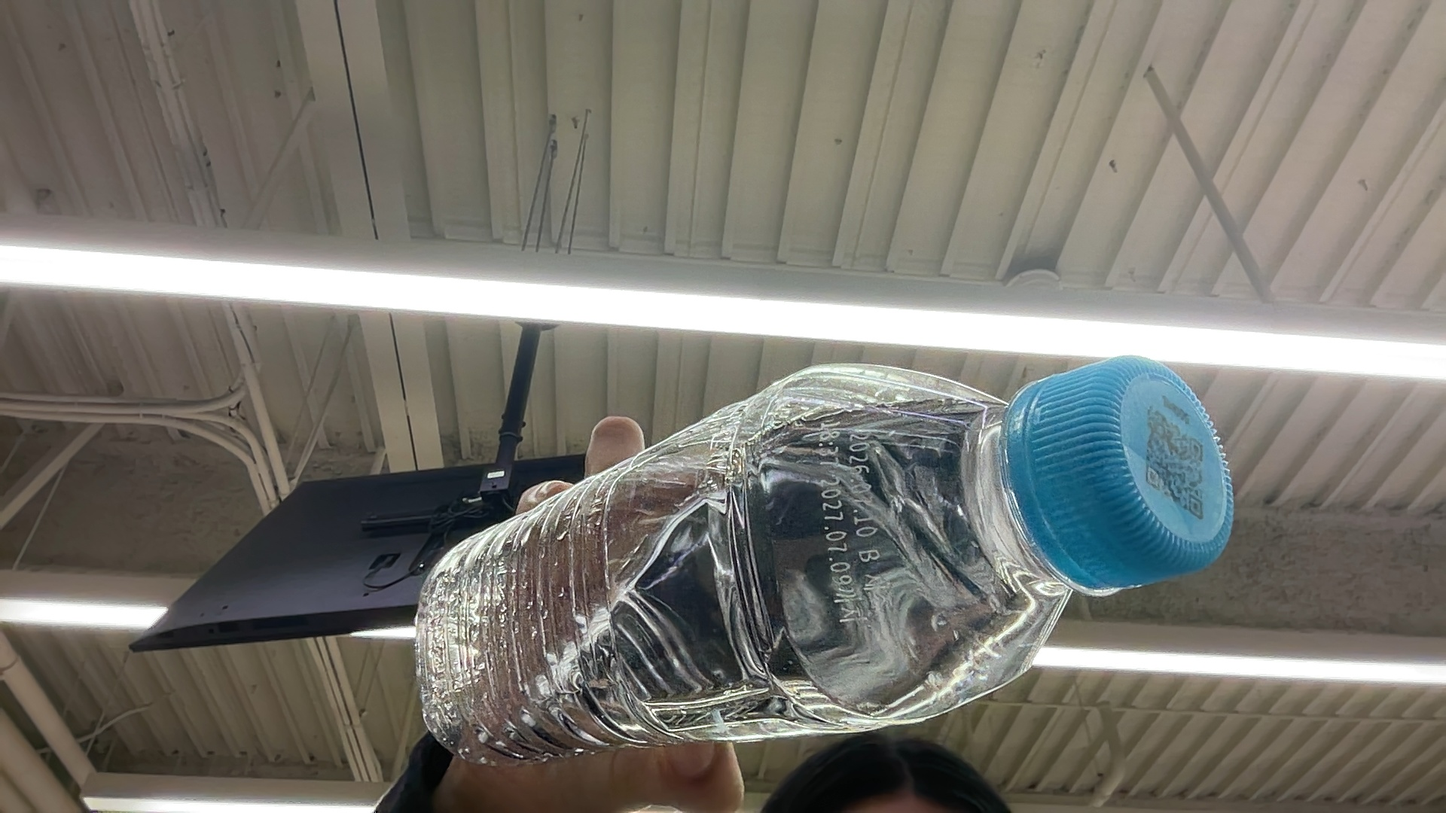Plastic: (996, 360, 1234, 590)
